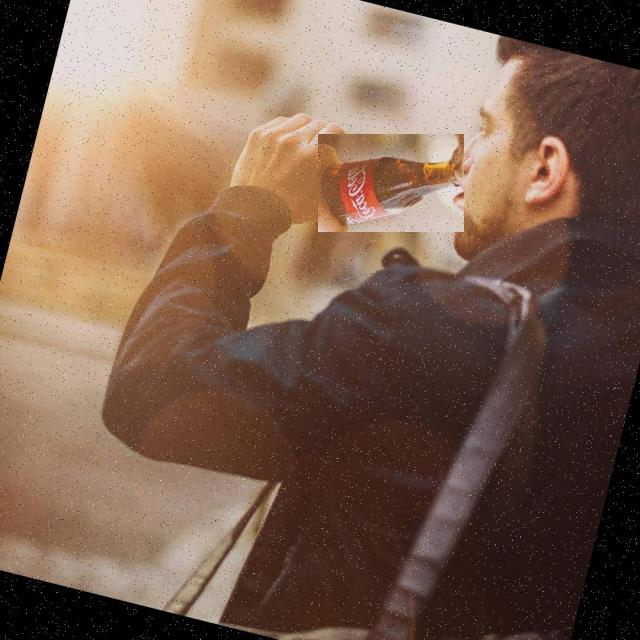coca-cola: (318, 134, 464, 232)
